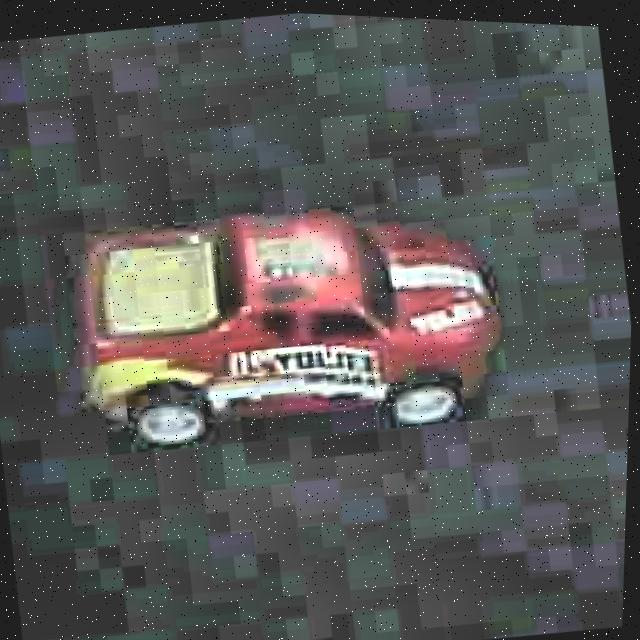car: (46, 155, 530, 489)
